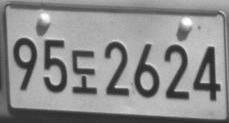2: (163, 43, 189, 100), (103, 40, 129, 96)
4: (192, 45, 221, 102)
5: (42, 38, 67, 93)
6: (133, 43, 160, 98)
9: (12, 36, 38, 90)
도: (71, 48, 97, 95)
